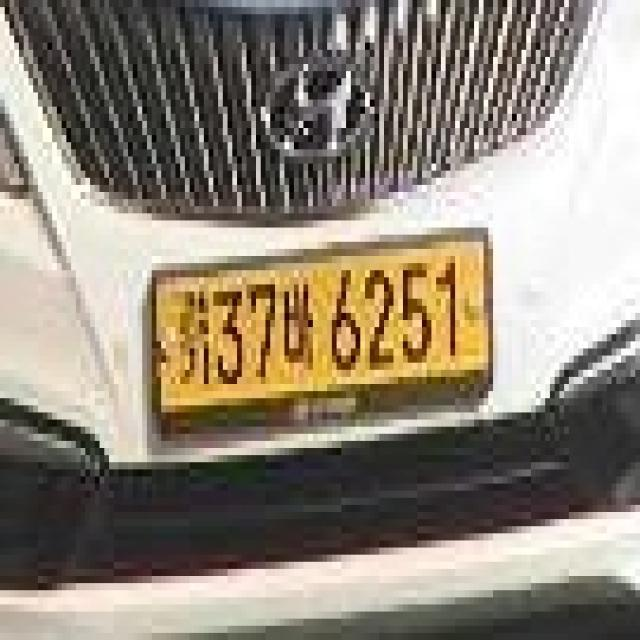plat: (148, 228, 492, 441)
